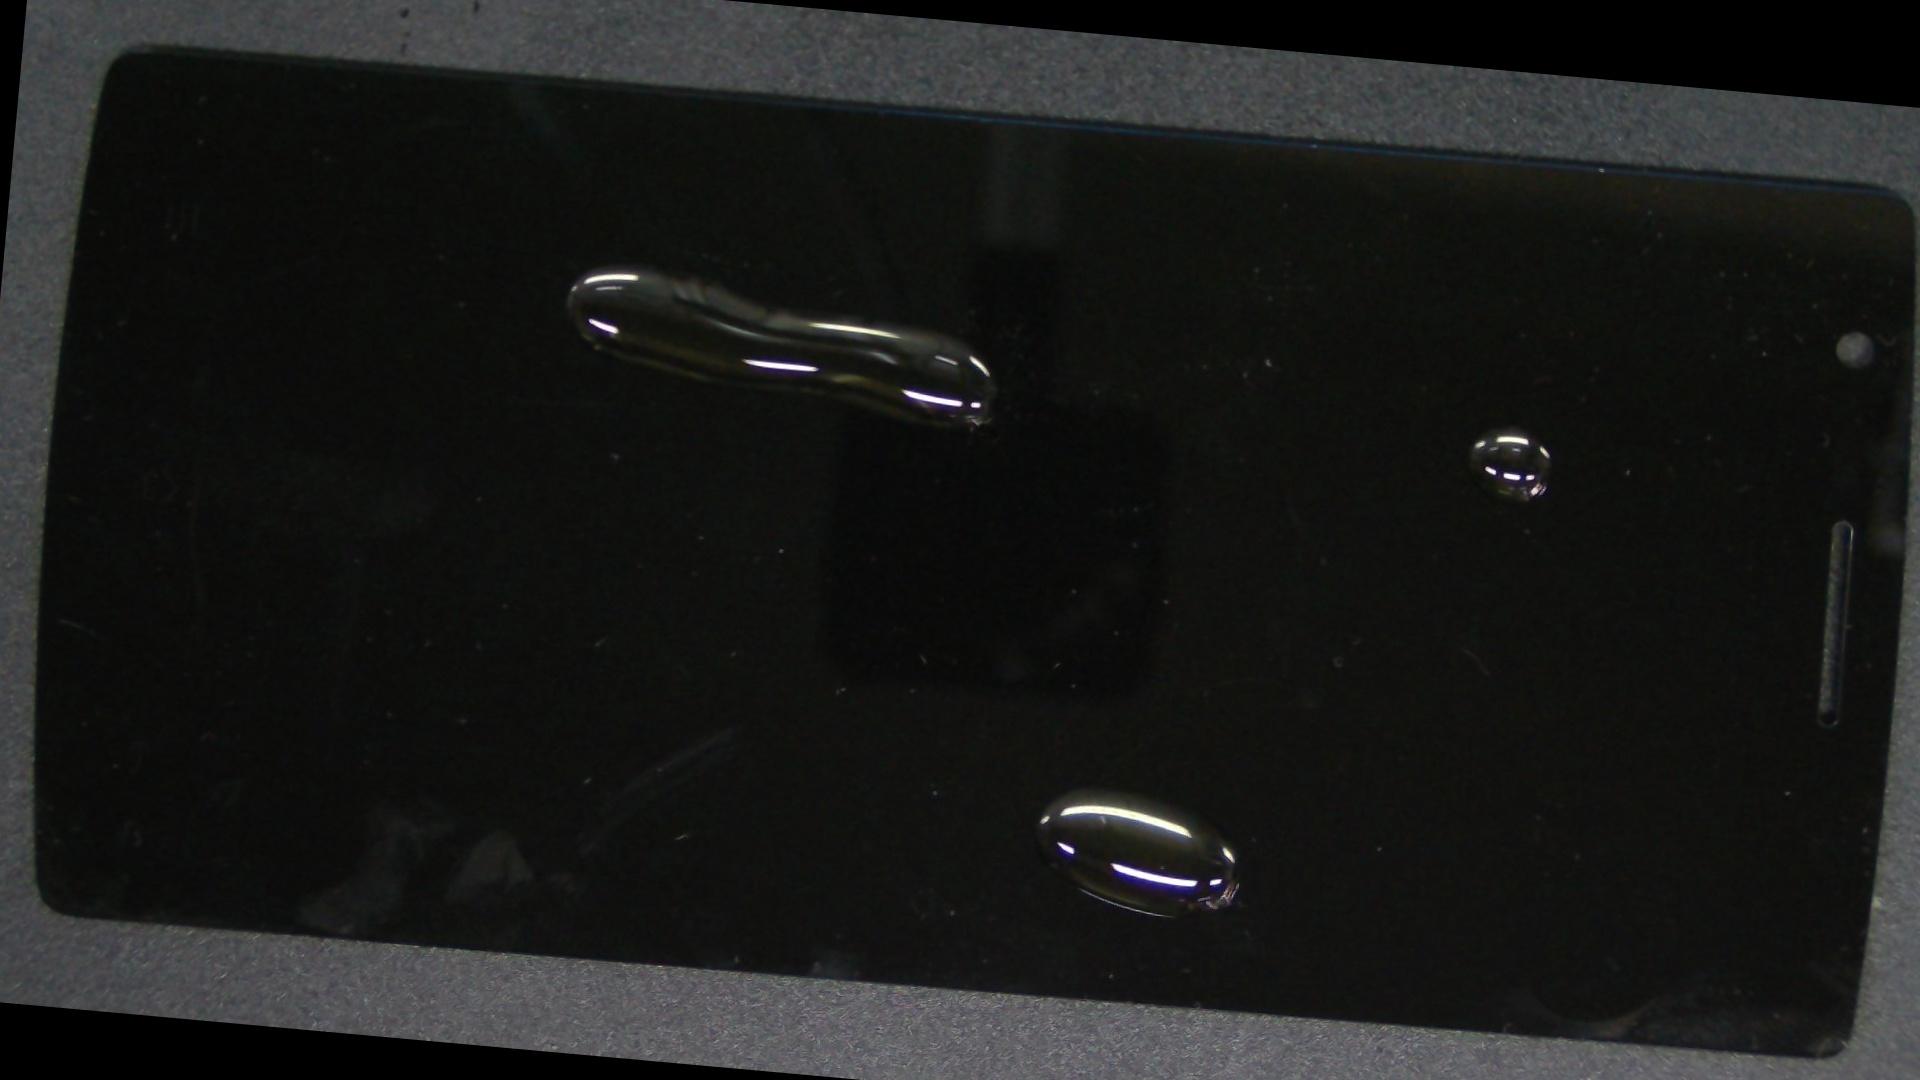oil: (498, 362, 1678, 1080), (740, 181, 1920, 646), (296, 102, 919, 431)
